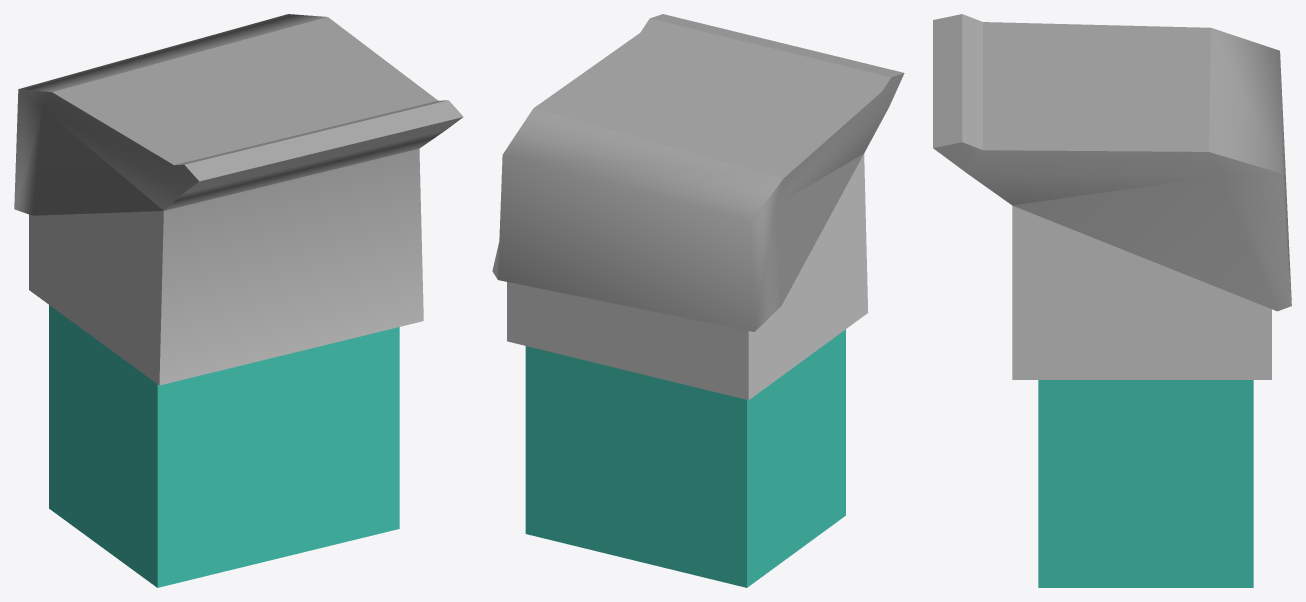
File: char7.fbx
3 views of the same model, side by side, from view 1: azimuth 30°, elevation 25°; view 2: azimuth 150°, elevation 25°; view 3: azimuth 270°, elevation 25° (orthographic). The views are drawn at different scales.
Visible parts, largest first — view 1: pCube68; view 2: pCube68; view 3: pCube68.
Part boxes in pixels (x1,y1,x2,y2): pCube68: (14, 14, 463, 587); pCube68: (492, 14, 904, 587); pCube68: (933, 14, 1291, 587).
Size of the model in its own units: 2.33 by 3.44 by 2.48.
